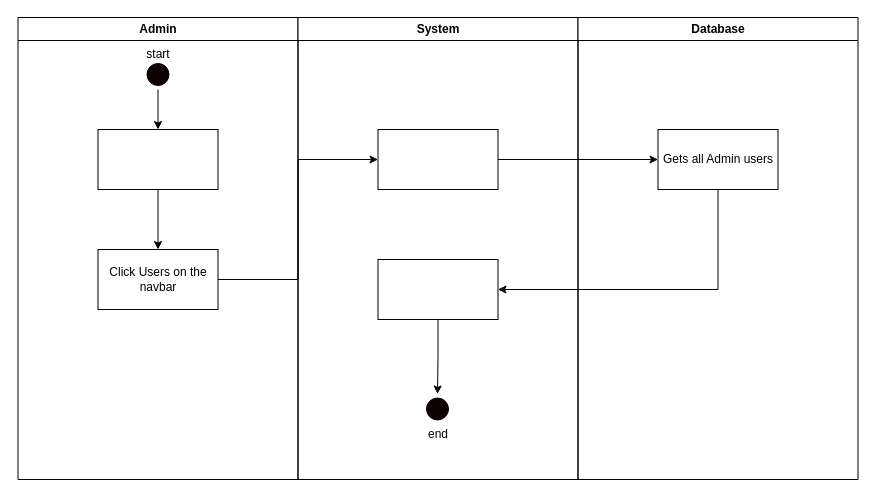
Some shapes in this 875 by 497 pixel diagram are drawn without their labels. Each missing label, with the centre of its shape:
"Enter the application" goes at (157,159).
"Receive the Get request" goes at (437,159).
"show the users" goes at (437,289).
